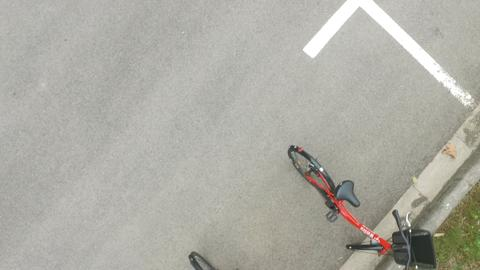bike: (271, 130, 457, 266)
